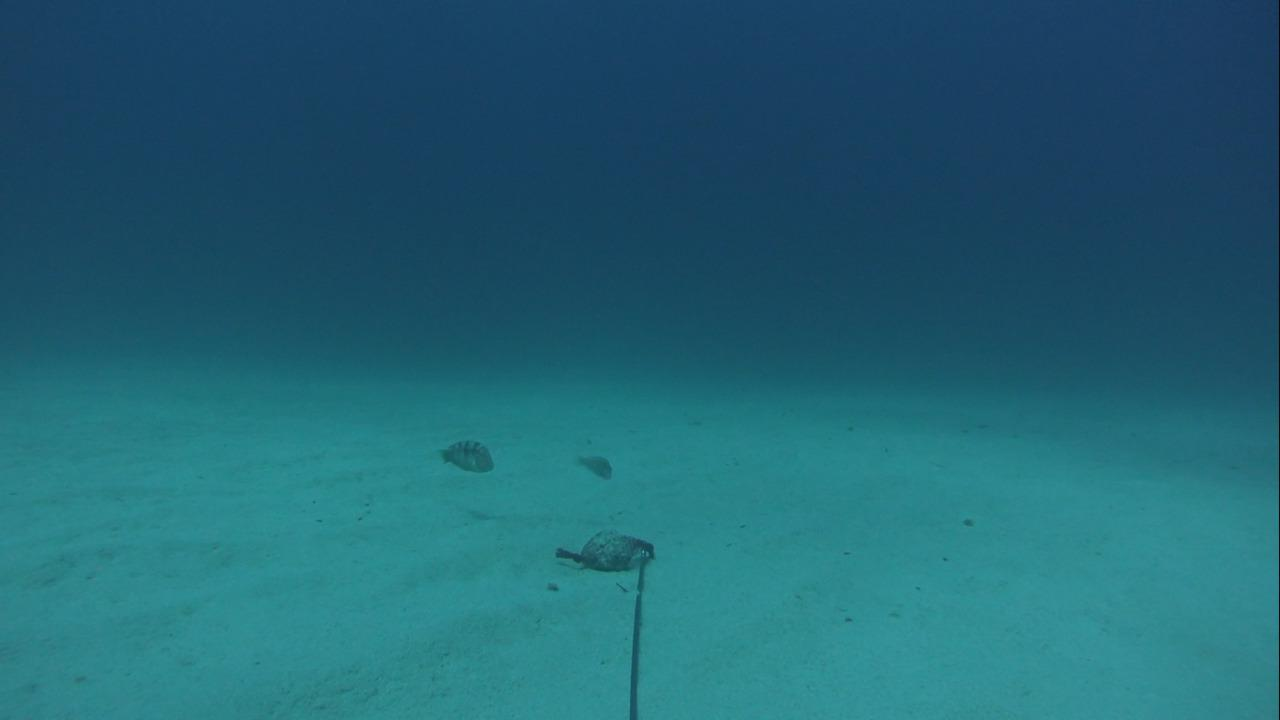raor: (436, 436, 497, 472), (573, 447, 617, 479)
